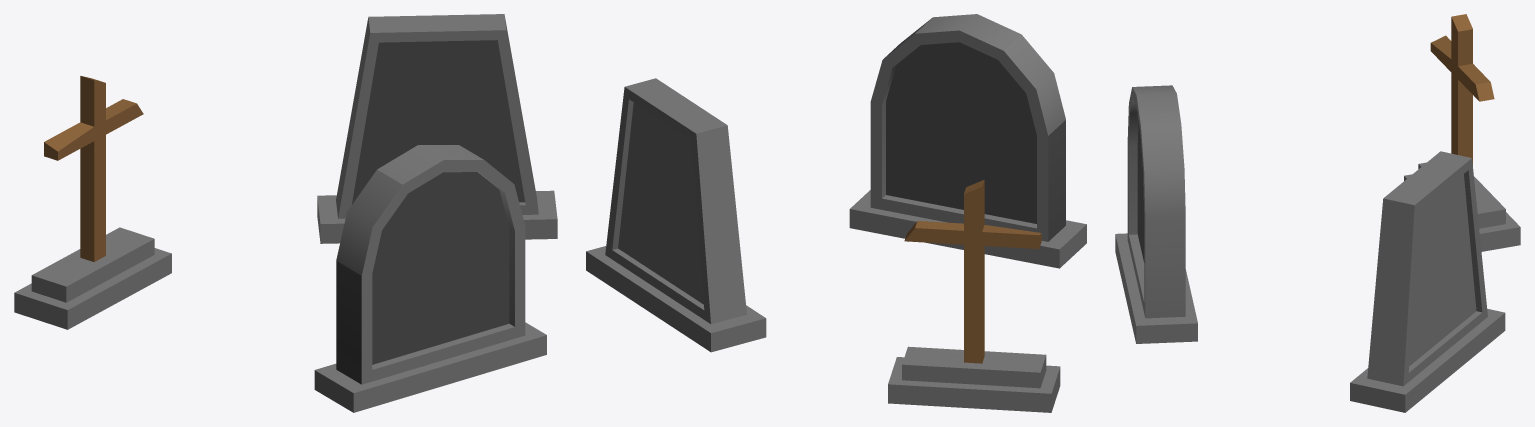
File: Graveyard.fbx
3 views of the same model, side by side, from view 1: azimuth 30°, elevation 25°; view 2: azimuth 150°, elevation 25°; view 3: azimuth 270°, elevation 25° (orthographic). The views are drawn at different scales.
Parts seen in each view (by area): view 1: Circle.008; view 2: Circle.008; view 3: Circle.008.
Part boxes in pixels (box(x1,y1,x2,y2)): Circle.008: box(14, 14, 557, 412); Circle.008: box(586, 14, 1086, 412); Circle.008: box(1115, 14, 1520, 412).
Bounding box in the file's own units: 81.26 × 33.49 × 60.77.
